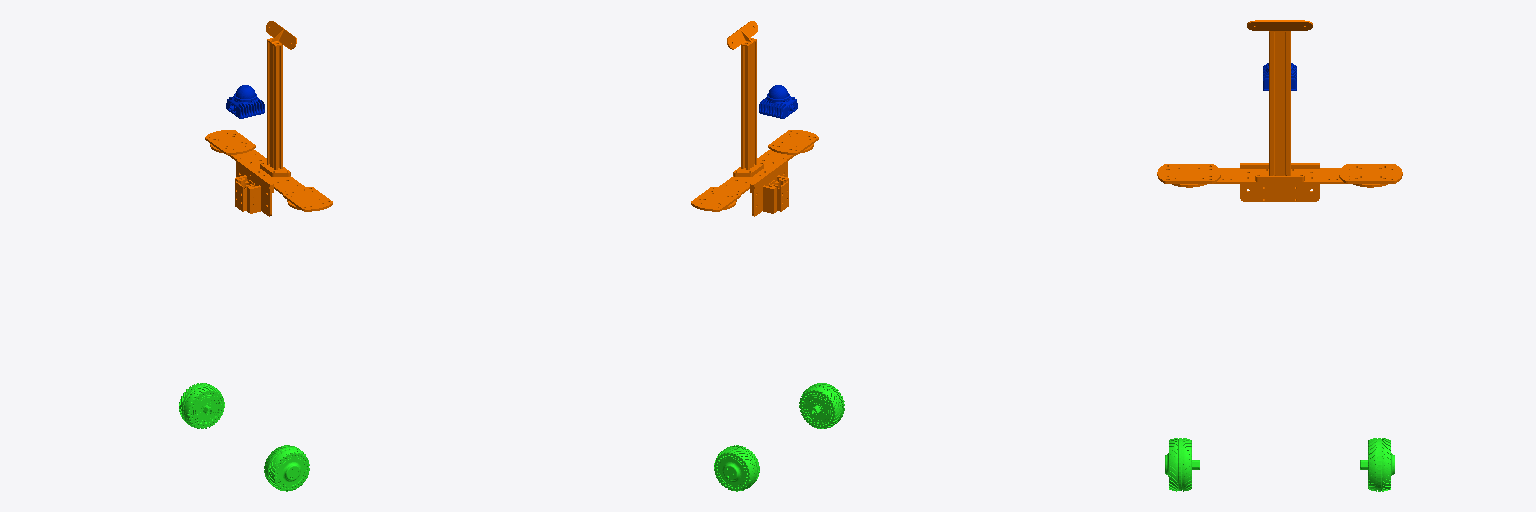
URDF robot description (robot_display):
<?xml version="1.0" encoding="utf-8"?>
<robot name="robot_display">
  <link name="body"/>

  <joint name="body_to_base_footprint_joint" type="fixed">
    <parent link="body" />
    <child link="base_footprint" />
    <origin xyz="-0.0139987 -0.0233413 -0.8458771" rpy="0 0 0" />
  </joint>

  <link name="base_footprint"/>
  
  <link name="base_link">
    <inertial>
      <origin xyz="-0.0098325143429585 -5.2540282666803E-05 0.392384583771952" rpy="0 0 0" />
      <mass value="1.52093247375048" />
      <inertia
        ixx="0.0176542350747674"
        ixy="-3.064862511353E-08"
        ixz="2.89095999810399E-05"
        iyy="0.0170775483739283"
        iyz="-6.04177568974473E-08"
        izz="0.00135407024623668" />
    </inertial>
    <visual>
      <origin xyz="0 0 0" rpy="0 0 0" />
      <geometry>
        <mesh filename="package://robot_display/meshes/base_link.STL" />
      </geometry>
      <material name="">
        <color rgba="1.0 1.0 1.0 1" />
      </material>
    </visual>
    <collision>
      <origin xyz="0 0 0" rpy="0 0 0" />
      <geometry>
        <mesh filename="package://robot_display/meshes/base_link.STL" />
      </geometry>
    </collision>
  </link>

  <joint name="base_footprint_joint" type="fixed">
    <parent link="base_footprint"/>
    <child link="base_link"/>
    <origin xyz="0 0 0.0105" rpy="0 0 0"/>
  </joint>

  <link name="whell_left_link">
    <inertial>
      <origin xyz="-7.85437210621548E-07 0.00048137342557214 1.11756020021447E-06" rpy="0 0 0" />
      <mass value="0.315479735385035" />
      <inertia
        ixx="0.000221117820208823"
        ixy="3.5833843868722E-10"
        ixz="-6.72123977051372E-09"
        iyy="0.000357084383299597"
        iyz="1.4251993170265E-08"
        izz="0.000221134649609164" />
    </inertial>
    <visual>
      <origin xyz="0 0 0" rpy="0 0 0" />
      <geometry>
        <mesh filename="package://robot_display/meshes/whell_left_link.STL" />
      </geometry>
      <material name="">
        <color rgba="0.2 1 0.2 1" />
      </material>
    </visual>
    <collision>
      <origin xyz="0 0 0" rpy="0 0 0" />
      <geometry>
        <mesh filename="package://robot_display/meshes/whell_left_link.STL" />
      </geometry>
    </collision>
  </link>

  <joint name="whell_left_joint" type="continuous">
    <origin xyz="0 0.188 0.04" rpy="0 0 0" />
    <parent link="base_link" />
    <child link="whell_left_link" />
    <axis xyz="0 1 0" />
  </joint>

  <link name="wheel_right_link">
    <inertial>
      <origin xyz="7.85441963985917E-07 -0.000481373418943581 1.11756507803484E-06" rpy="0 0 0" />
      <mass value="0.315479735504946" />
      <inertia
        ixx="0.000221117820259764"
        ixy="3.58314078627961E-10"
        ixz="6.72121924957937E-09"
        iyy="0.000357084383339721"
        iyz="-1.42520181537281E-08"
        izz="0.000221134649658052" />
    </inertial>
    <visual>
      <origin xyz="0 0 0" rpy="0 0 0" />
      <geometry>
        <mesh filename="package://robot_display/meshes/wheel_right_link.STL" />
      </geometry>
      <material name="">
        <color rgba="0.2 1 0.2 1" />
      </material>
    </visual>
    <collision>
      <origin xyz="0 0 0" rpy="0 0 0" />
      <geometry>
        <mesh filename="package://robot_display/meshes/wheel_right_link.STL" />
      </geometry>
    </collision>
  </link>

  <joint name="wheel_right_joint" type="continuous">
    <origin xyz="0 -0.188 0.04" rpy="0 0 0" />
    <parent link="base_link" />
    <child link="wheel_right_link" />
    <axis xyz="0 1 0" />
  </joint>

  <link name="screw_link">
    <inertial>
      <origin
        xyz="-0.00427100433072362 3.13763129416249E-05 0.047332346870503"
        rpy="0 0 0" />
      <mass
        value="0.510258972883763" />
      <inertia
        ixx="0.00329335052583588"
        ixy="2.96626302923215E-07"
        ixz="-2.59064528728889E-06"
        iyy="0.00083633633896411"
        iyz="8.71877566364901E-08"
        izz="0.00268588094530677" />
    </inertial>    
    <visual>
      <origin xyz="0 0 0" rpy="0 0 0" />
      <geometry>
        <mesh filename="package://robot_display/meshes/screw_link.STL" />
      </geometry>
      <material name="">
        <color rgba="1 0.5 0 1" />
      </material>
    </visual>
    <collision>
      <origin xyz="0 0 0" rpy="0 0 0" />
      <geometry>
        <mesh filename="package://robot_display/meshes/screw_link.STL" />
      </geometry>
    </collision>
  </link>

  <joint name="screw_joint" type="prismatic">
    <origin xyz="0.0616483321125747 5.00000000000496E-05 0.671" rpy="0 0 0" />
    <parent link="base_link" />
    <child link="screw_link" />
    <axis xyz="0 0 -1" />
    <limit lower="-0.2" upper="0" effort="100" velocity="0.1" />
  </joint>

  <link name="livox_poo_link">
    <inertial>
      <origin xyz="-0.0011535215104774 -1.68497683204461E-05 0.0041860206540324" rpy="0 0 0" />
      <mass value="0.0525930263369941" />
      <inertia
        ixx="1.13651947226529E-05"
        ixy="-5.6033368334055E-09"
        ixz="4.23764794898073E-10"
        iyy="1.13970227331633E-05"
        iyz="-6.00563014356558E-10"
        izz="1.91794026196399E-05" />
      </inertial>
    <visual>
      <origin xyz="0 0 0" rpy="0 0 0" />
      <geometry>
        <mesh filename="package://robot_display/meshes/livox_link.STL" />
      </geometry>
      <material name="">
        <color rgba="0 0.2 0.8 1" />
      </material>
    </visual>
    <collision>
      <origin xyz="0 0 0" rpy="0 0 0" />
      <geometry>
        <mesh filename="package://robot_display/meshes/livox_link.STL" />
      </geometry>
    </collision>
  </link>

  <joint name="livox_joint" type="fixed">
    <origin
      xyz="0.00299873713924339 5.12624561495789E-05 0.858417099999998"
      rpy="0 0 0" />
    <parent link="base_link" />
    <child link="livox_poo_link" />
  </joint>

  <link name="livox_frame"/>
  <joint name="livox_poo_to_livox_joint" type="fixed">
    <parent link="livox_poo_link" />
    <child link="livox_frame" />
    <origin xyz="0 0 0.02108" rpy="0 0 0" />
  </joint>
  
  <link name="imu_link"/>
  <joint name="livox_frame_to_livox_body_joint" type="fixed">
    <parent link="livox_frame" />
    <child link="imu_link" />
    <origin xyz="0.011 0.02329 -0.04412" rpy="0 0 0" />
  </joint>
</robot>

--- Render facts (derived) ---
The picture shows the robot from 3 angles, left to right: view 1: azimuth 30°, elevation 25°; view 2: azimuth 150°, elevation 25°; view 3: azimuth 270°, elevation 25°; orthographic projection.
Robot: robot_display — 9 links, 8 joints (2 continuous, 1 prismatic, 5 fixed); root link body; default pose: every joint at zero.
Links seen in each view (by area): view 1: screw_link, wheel_right_link, whell_left_link, livox_poo_link; view 2: screw_link, whell_left_link, wheel_right_link, livox_poo_link; view 3: screw_link, whell_left_link, wheel_right_link.
Boxes of the visible links, box(x1,y1,x2,y2) form: screw_link: box(205, 21, 332, 216); wheel_right_link: box(264, 445, 309, 491); whell_left_link: box(179, 383, 224, 428); livox_poo_link: box(226, 85, 264, 118); screw_link: box(691, 21, 818, 216); whell_left_link: box(714, 445, 759, 491); wheel_right_link: box(799, 383, 844, 428); livox_poo_link: box(759, 85, 797, 118); screw_link: box(1157, 20, 1402, 201); whell_left_link: box(1360, 438, 1394, 491); wheel_right_link: box(1165, 438, 1199, 491).
Size in the robot's own frame: 0.1581 by 0.4617 by 1.02 metres.
Meshes: 5 distinct files referenced, 4 mesh visuals loaded (4 binary STL); not drawn: 1 (reference not matched to a file when rendering).
